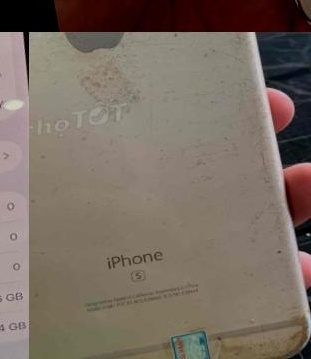scratch: (169, 99, 311, 272), (29, 287, 311, 359), (29, 32, 198, 138), (168, 32, 283, 83)
